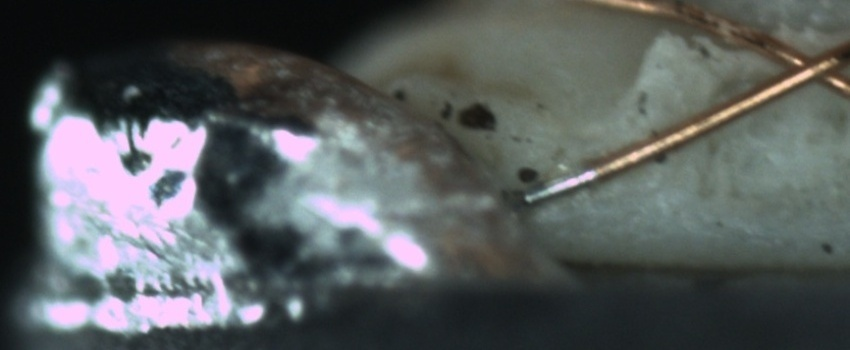CL: (751, 29, 849, 98)
TS: (520, 167, 601, 204)
